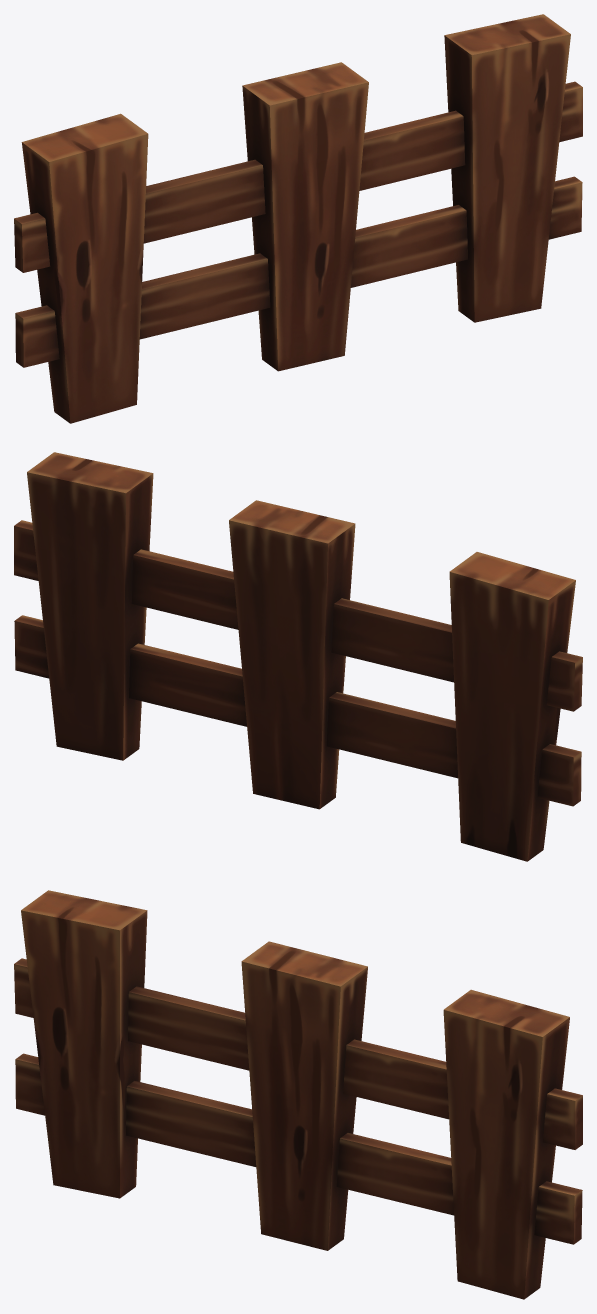
File: Fence.fbx
3 views of the same model, one above another, from view 1: azimuth 30°, elevation 25°; view 2: azimuth 150°, elevation 25°; view 3: azimuth 330°, elevation 25° (orthographic).
Parts seen in each view (by area): view 1: pCube50, pCube48, pCube43, pCube47, pCube49; view 2: pCube50, pCube48, pCube43, pCube47, pCube49; view 3: pCube43, pCube48, pCube50, pCube47, pCube49.
Part boxes in pixels (bbox=[...]): pCube50: bbox=[444, 14, 570, 322]; pCube48: bbox=[242, 62, 368, 371]; pCube43: bbox=[21, 113, 148, 423]; pCube47: bbox=[15, 176, 582, 367]; pCube49: bbox=[14, 81, 582, 272]; pCube50: bbox=[27, 452, 153, 760]; pCube48: bbox=[229, 500, 355, 809]; pCube43: bbox=[449, 552, 575, 861]; pCube47: bbox=[14, 615, 581, 806]; pCube49: bbox=[14, 520, 582, 711]; pCube43: bbox=[21, 890, 147, 1198]; pCube48: bbox=[241, 941, 367, 1250]; pCube50: bbox=[443, 989, 569, 1299]; pCube47: bbox=[15, 1053, 582, 1244]; pCube49: bbox=[14, 958, 582, 1149].
Size of the model in its own units: 3 by 1.41 by 0.2539.
